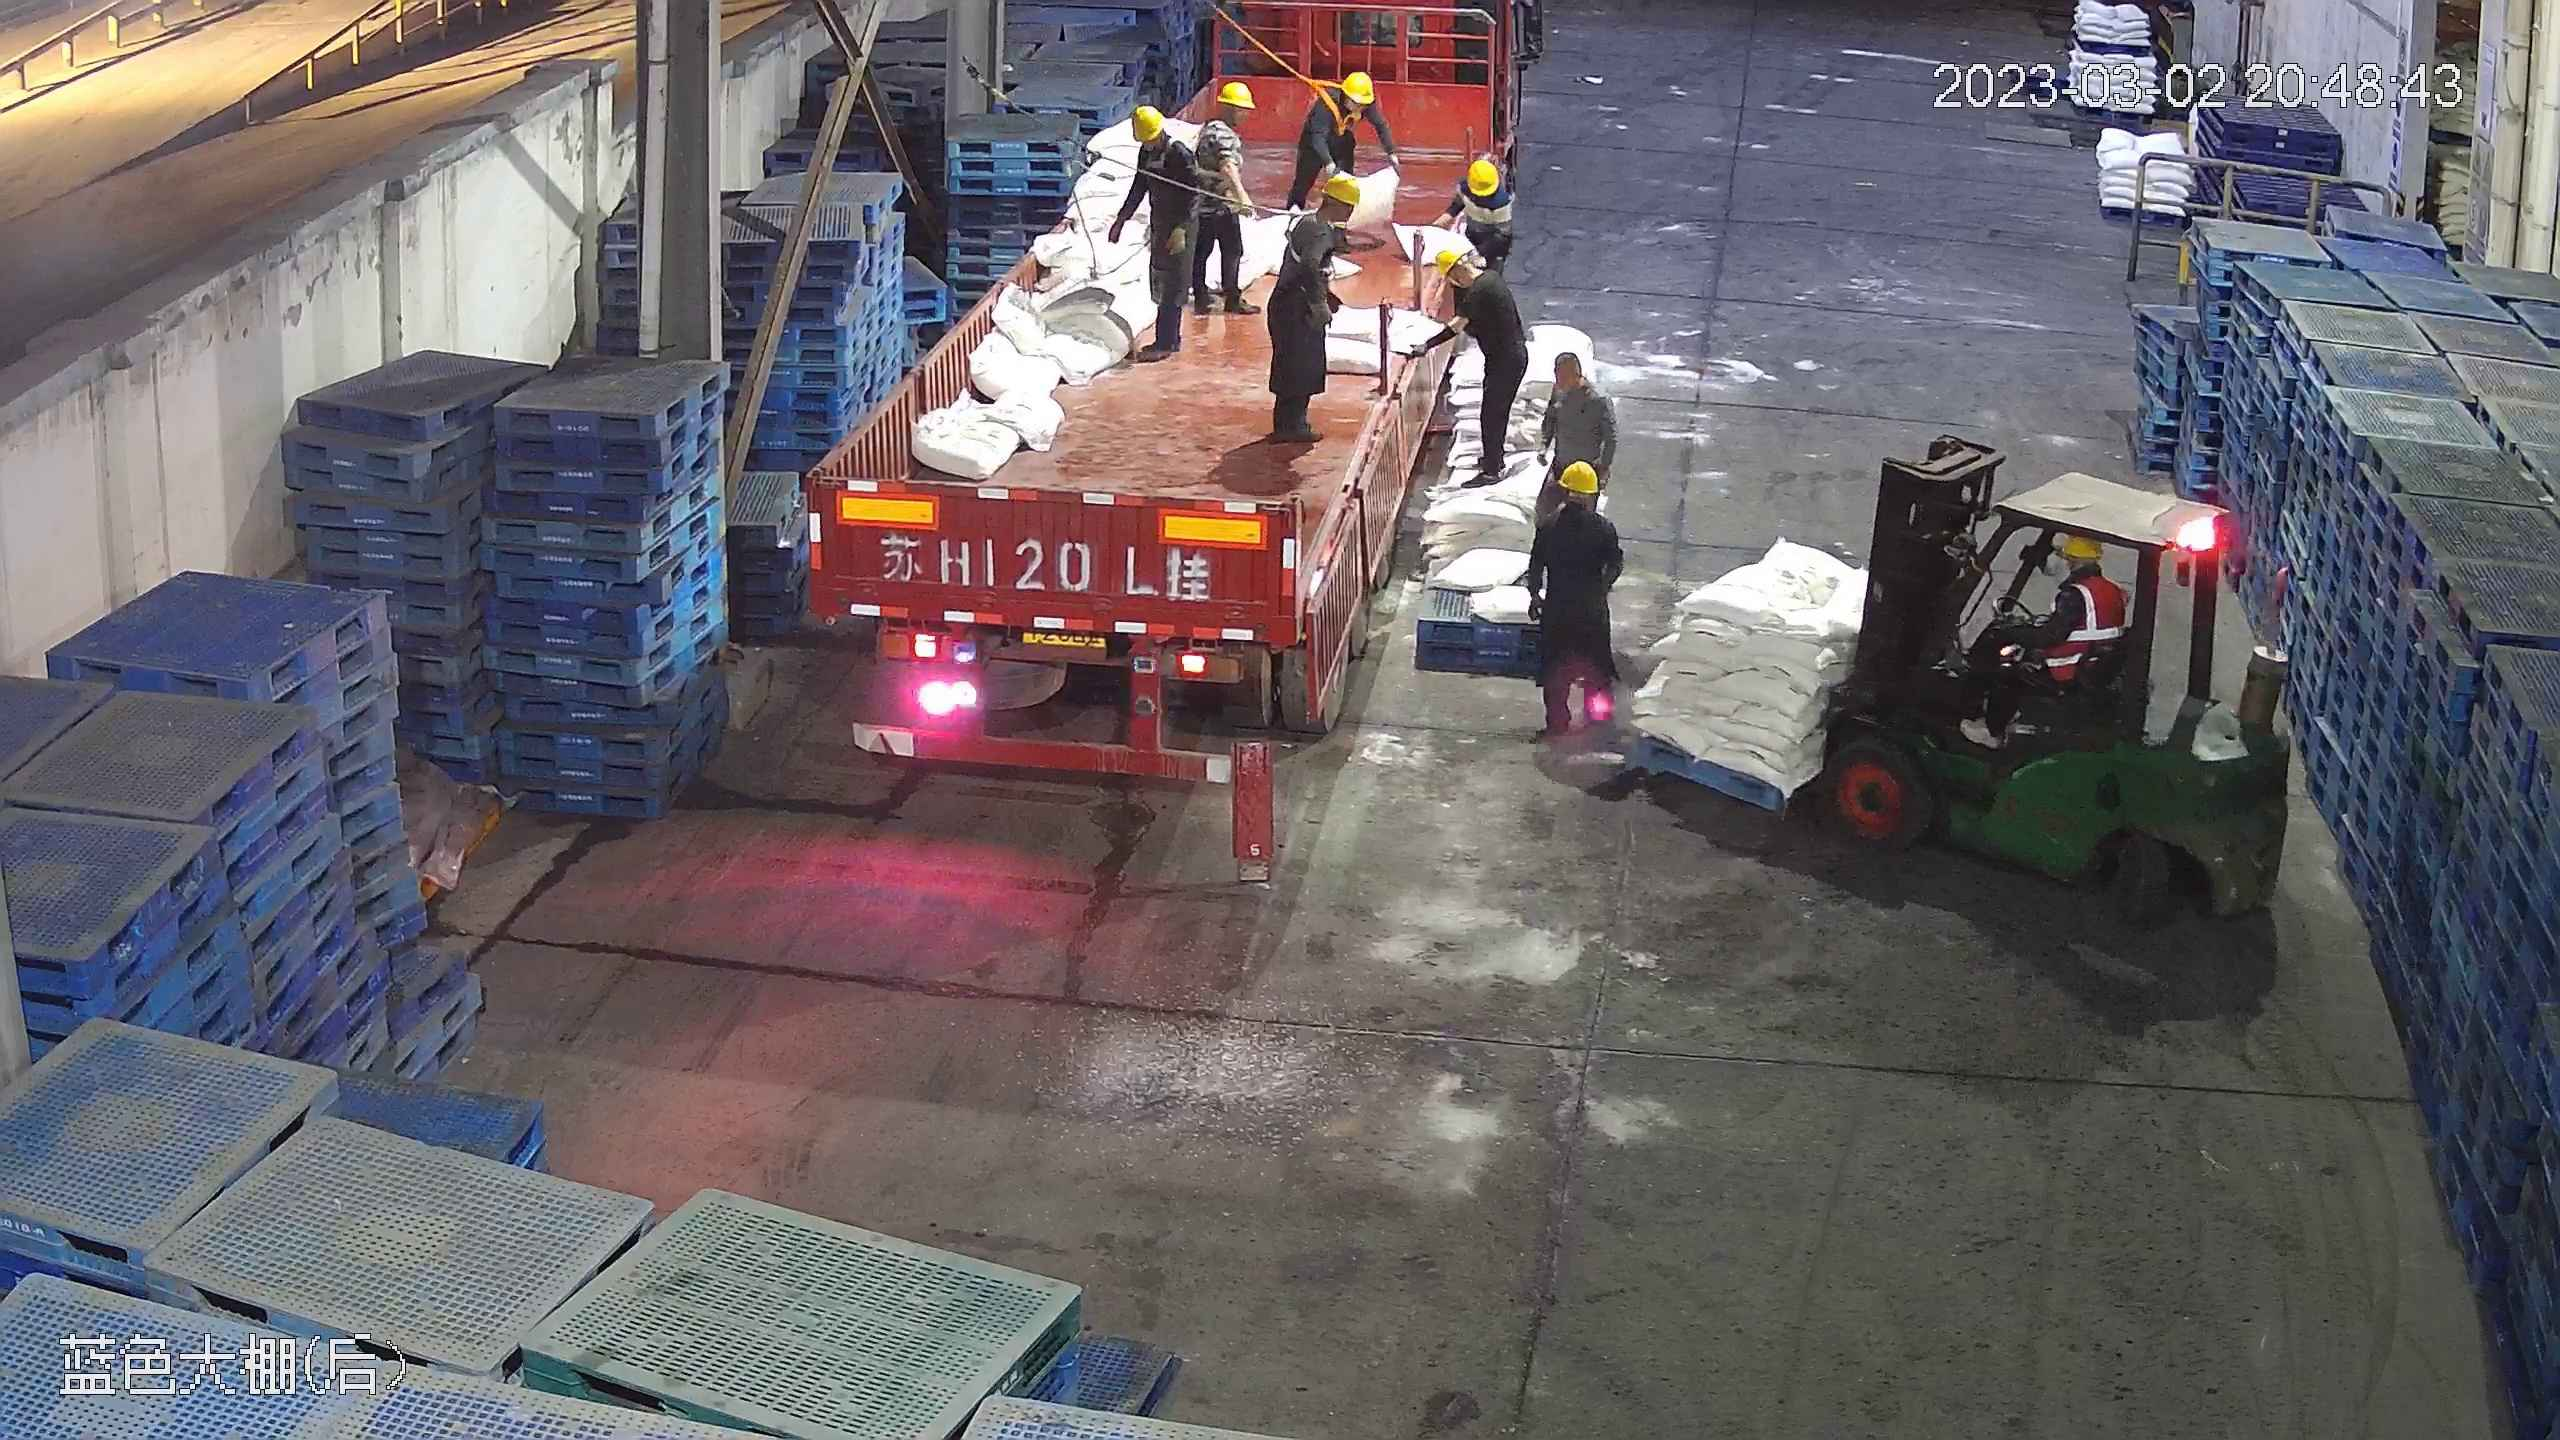belt: (1273, 205, 1339, 271), (1296, 76, 1344, 137), (1197, 127, 1243, 184), (1144, 151, 1182, 189)
head: (1533, 458, 1621, 555), (2043, 529, 2122, 623), (1278, 173, 1365, 254), (1126, 101, 1199, 183), (1432, 247, 1514, 317), (1538, 351, 1610, 427), (1300, 72, 1379, 137), (1451, 156, 1517, 226), (1192, 80, 1252, 155)
helmet: (1552, 458, 1602, 493), (1317, 173, 1363, 207), (1127, 101, 1165, 141), (2057, 530, 2104, 559), (1336, 69, 1374, 104), (1466, 157, 1500, 190), (1215, 79, 1251, 109), (1436, 248, 1467, 278)
people: (1520, 455, 1630, 745), (1256, 171, 1362, 444), (1106, 103, 1218, 355), (1986, 525, 2130, 723), (1426, 242, 1525, 486), (1184, 77, 1259, 311), (1539, 354, 1616, 535), (1285, 69, 1382, 208)
truck: (821, 48, 1513, 791)
